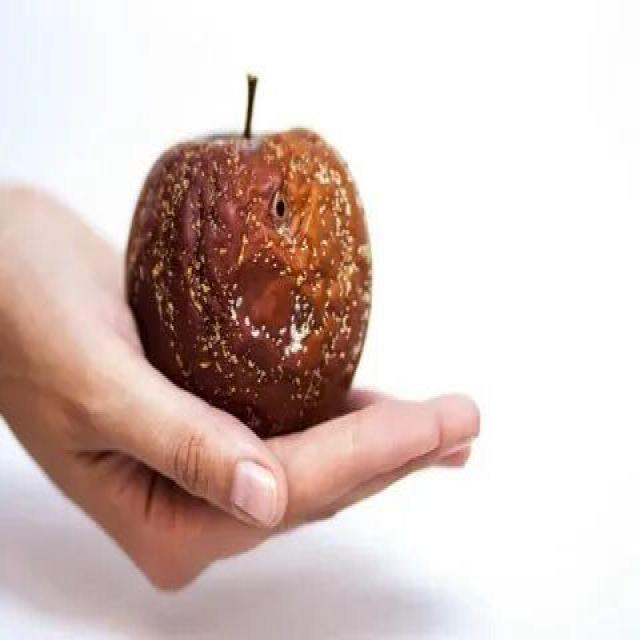Rotten: (122, 125, 393, 440)
